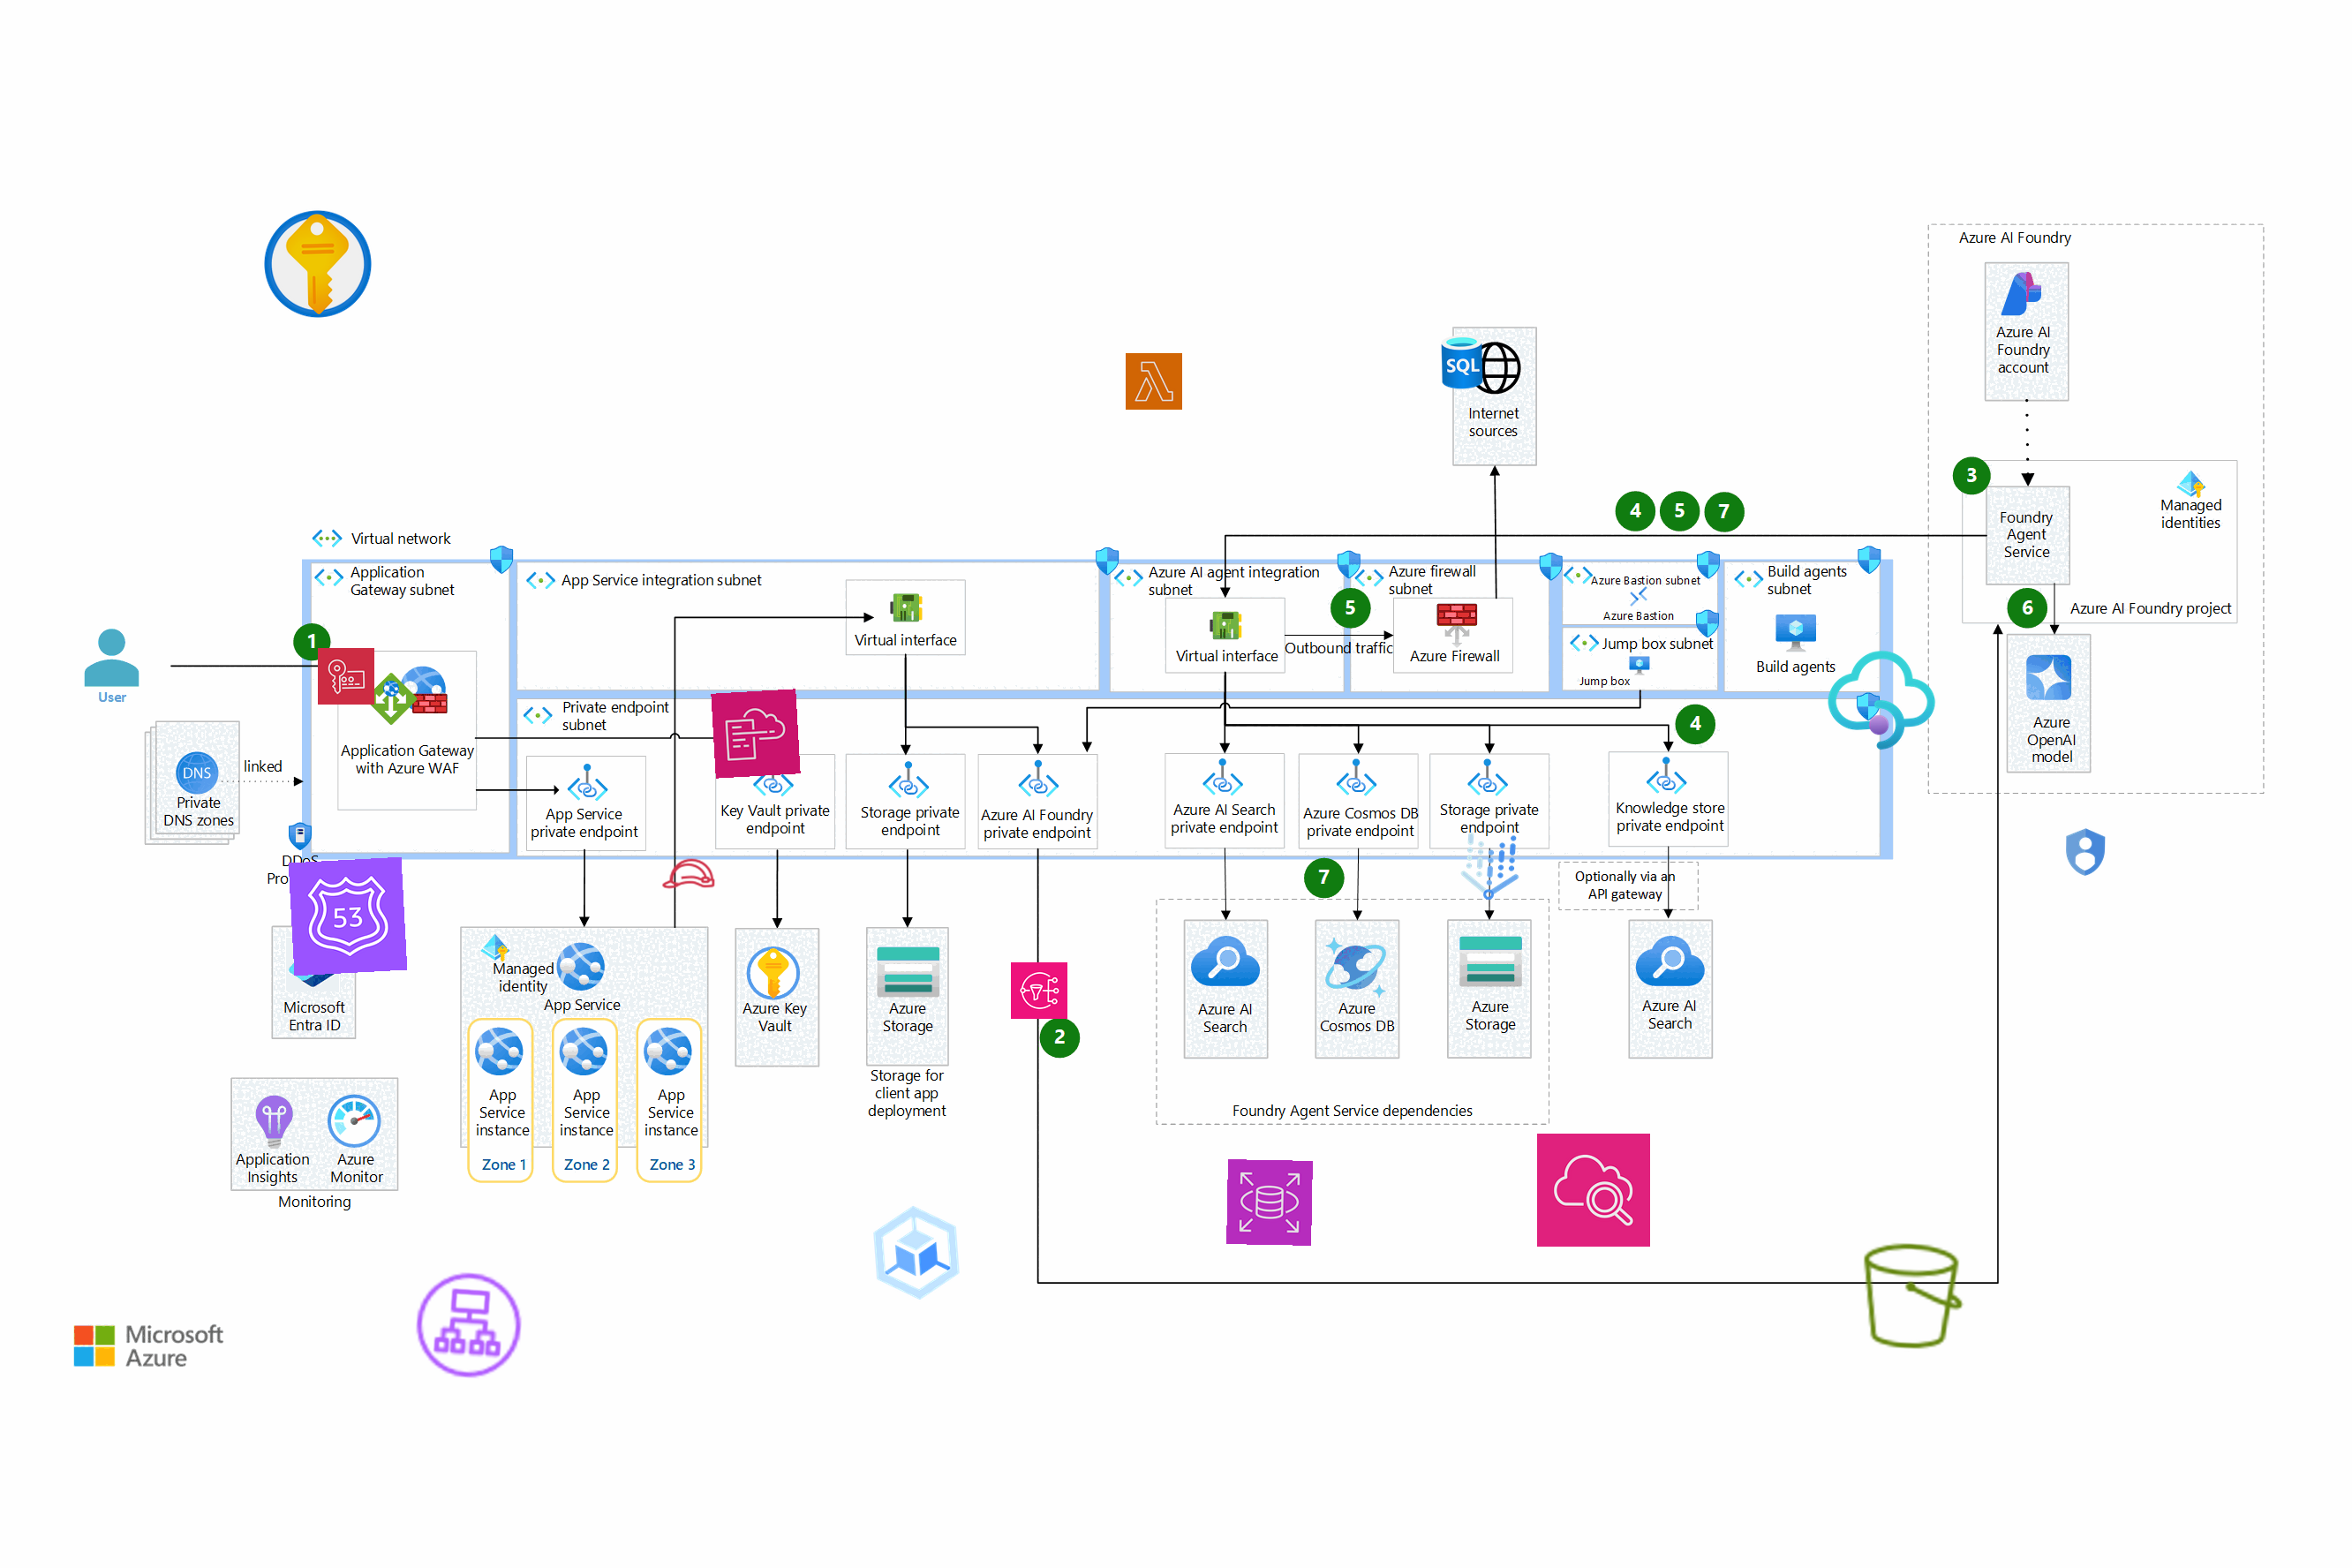aws_amazon_cloudwatch: (1536, 1132, 1650, 1248)
aws_amazon_rds: (1227, 1158, 1312, 1246)
aws_amazon_route_53: (287, 856, 408, 976)
aws_amazon_simple_notification_service: (1010, 961, 1067, 1020)
aws_cloudformation: (710, 689, 801, 779)
aws_elastic_load_balancing_application_load_balancer: (408, 1263, 530, 1386)
aws_identity_access_management_role: (660, 845, 717, 903)
aws_key_management_service: (317, 647, 374, 705)
aws_lambda: (1125, 352, 1183, 411)
aws_simple_storage_service_s3_standard: (1853, 1237, 1972, 1354)
azure_api_management_services: (1822, 640, 1941, 759)
azure_key_vaults: (259, 206, 376, 322)
azure_sql_database: (1433, 332, 1491, 390)
gcp_google_kubernetes_engine: (856, 1192, 976, 1314)
gcp_identity_and_access_management: (2056, 822, 2114, 880)
gcp_vertex_ai: (1445, 822, 1535, 912)
